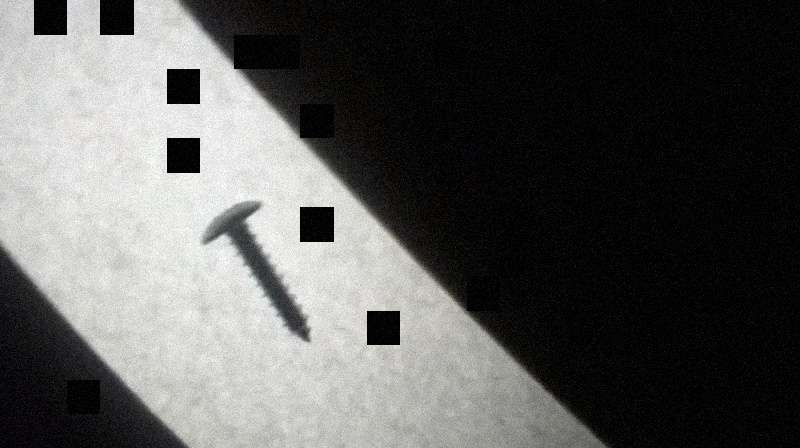S003: (199, 196, 315, 347)
